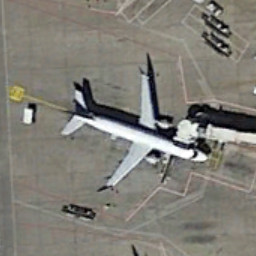Airplane: (53, 50, 221, 207)
